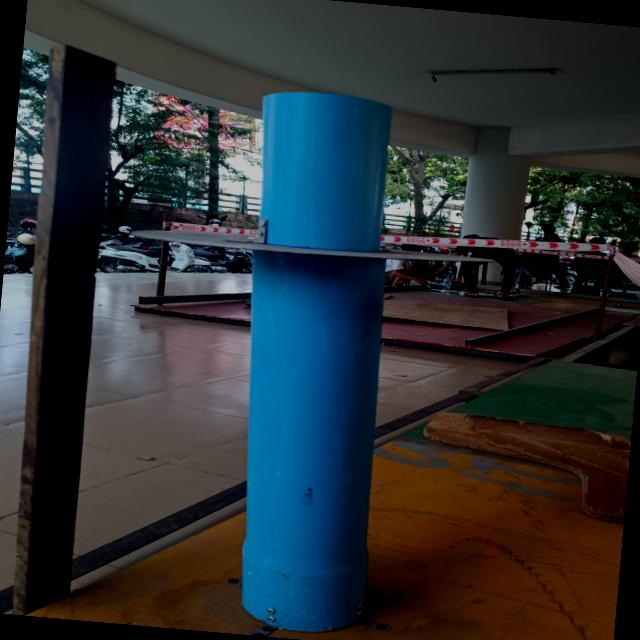pole: (117, 70, 502, 428)
